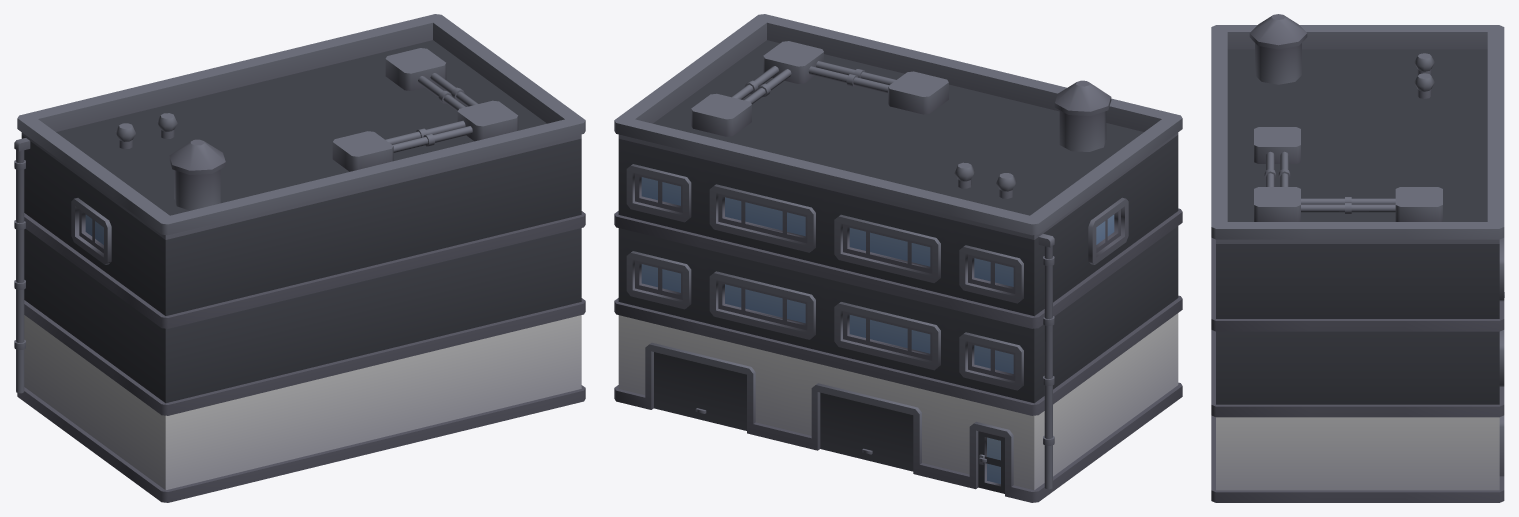
Rendered from warehouse-01.glb.
The picture shows the model from 3 angles, left to right: view 1: azimuth 30°, elevation 25°; view 2: azimuth 150°, elevation 25°; view 3: azimuth 270°, elevation 25°; orthographic projection.
Parts seen in each view (by area): view 1: warehouse-01; view 2: warehouse-01; view 3: warehouse-01.
Boxes of the visible parts, x1=… form: warehouse-01: x1=14, y1=14, x2=585, y2=502; warehouse-01: x1=614, y1=14, x2=1182, y2=502; warehouse-01: x1=1211, y1=14, x2=1504, y2=502.
Bounding box in the file's own units: 1 × 0.7055 × 0.5961.
